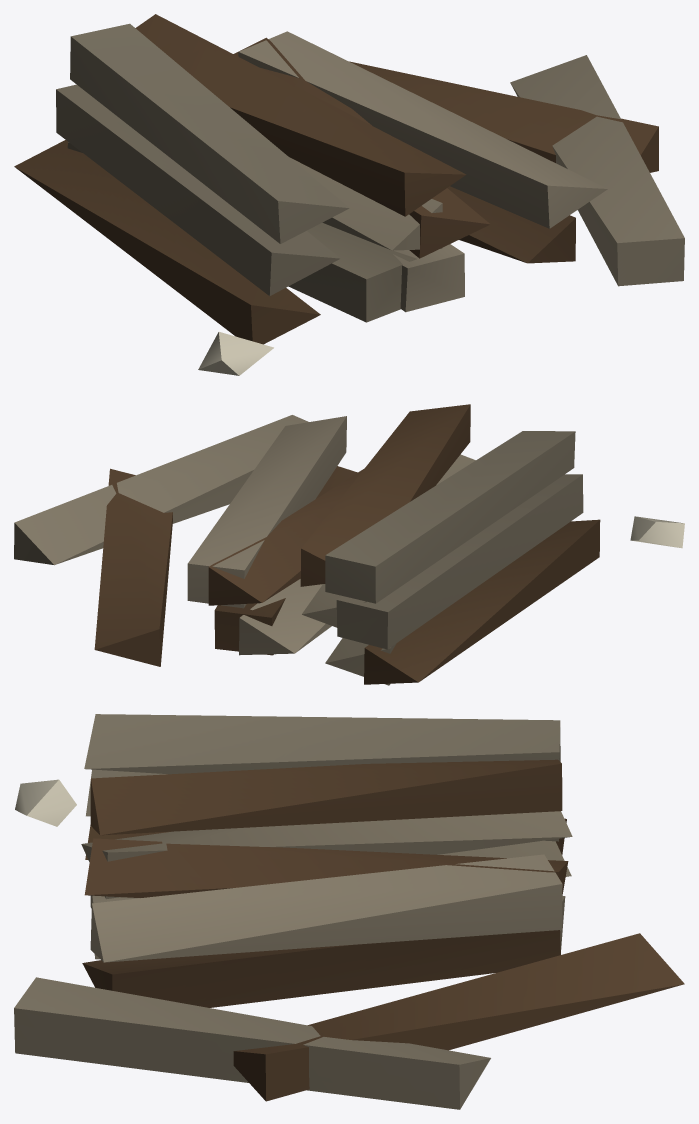
The model's file is timber_ties_b_lod2.glb.
The picture shows the model from 3 angles, top to bottom: view 1: azimuth 30°, elevation 25°; view 2: azimuth 150°, elevation 25°; view 3: azimuth 270°, elevation 25°; orthographic projection. The views are drawn at different scales.
Visible parts, largest first — view 1: Surface.001; view 2: Surface.001; view 3: Surface.001.
Part boxes in pixels (x1,y1,x2,y2): Surface.001: (14,14,684,375); Surface.001: (14,404,684,685); Surface.001: (14,714,684,1109).
Bounding box in the file's own units: 4.52 × 1.06 × 4.26.
